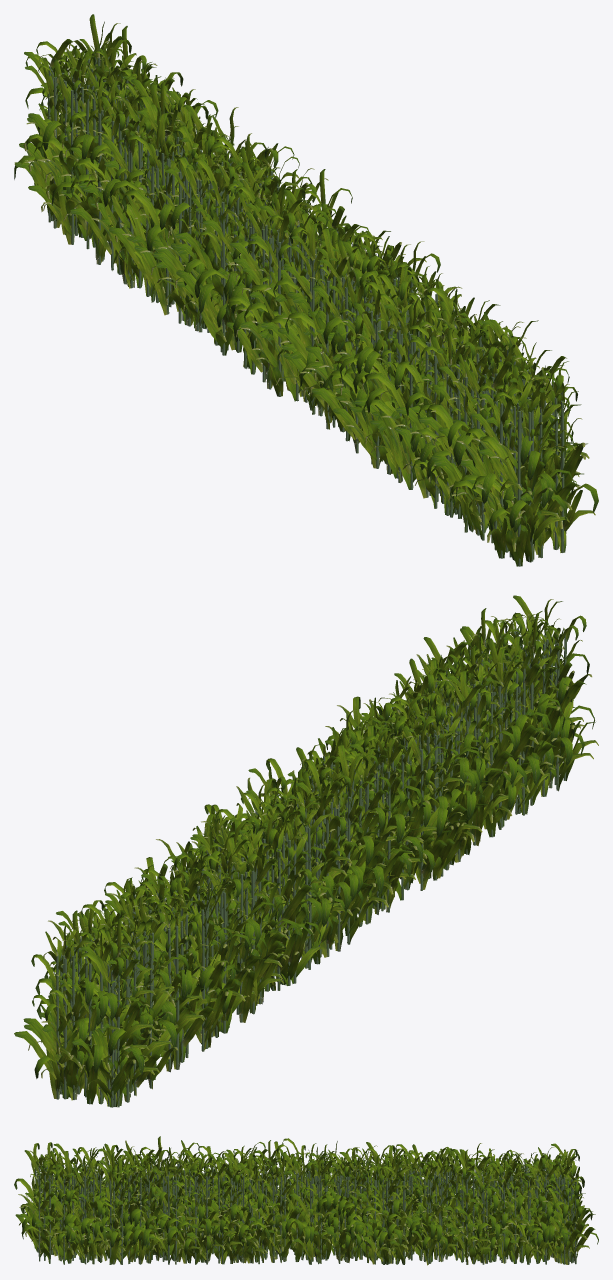
File: milharal4x50_denso4.fbx
The picture shows the model from 3 angles, top to bottom: view 1: azimuth 30°, elevation 25°; view 2: azimuth 150°, elevation 25°; view 3: azimuth 270°, elevation 25°; orthographic projection. The views are drawn at different scales.
Parts seen in each view (by area): view 1: Plantacao2; view 2: Plantacao2; view 3: Plantacao2.
Part boxes in pixels (x1,y1,x2,y2): Plantacao2: (14,14,598,566); Plantacao2: (14,595,598,1107); Plantacao2: (14,1136,598,1265).
Bounding box in the file's own units: 870 × 1111 × 5416.
